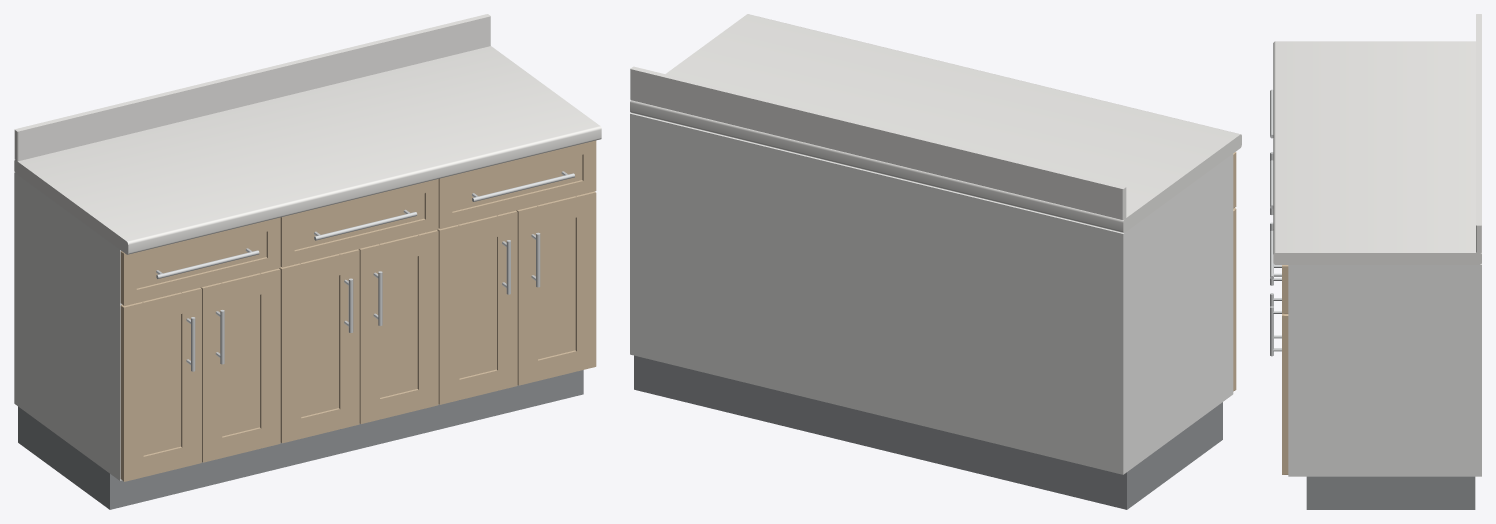
3 renders of one model, left to right at view 1: azimuth 30°, elevation 25°; view 2: azimuth 150°, elevation 25°; view 3: azimuth 270°, elevation 25°, orthographic. The views are drawn at different scales.
Visible parts, largest first — view 1: Tủ bếp dưới Dài=1500; Sâu=580; view 2: Tủ bếp dưới Dài=1500; Sâu=580; view 3: Tủ bếp dưới Dài=1500; Sâu=580.
Boxes of the visible parts, <box> form: Tủ bếp dưới Dài=1500; Sâu=580: <box>14,14,601,509</box>; Tủ bếp dưới Dài=1500; Sâu=580: <box>630,14,1241,509</box>; Tủ bếp dưới Dài=1500; Sâu=580: <box>1270,14,1481,509</box>.
Size of the model in its own units: 1.5 by 0.94 by 0.635.
